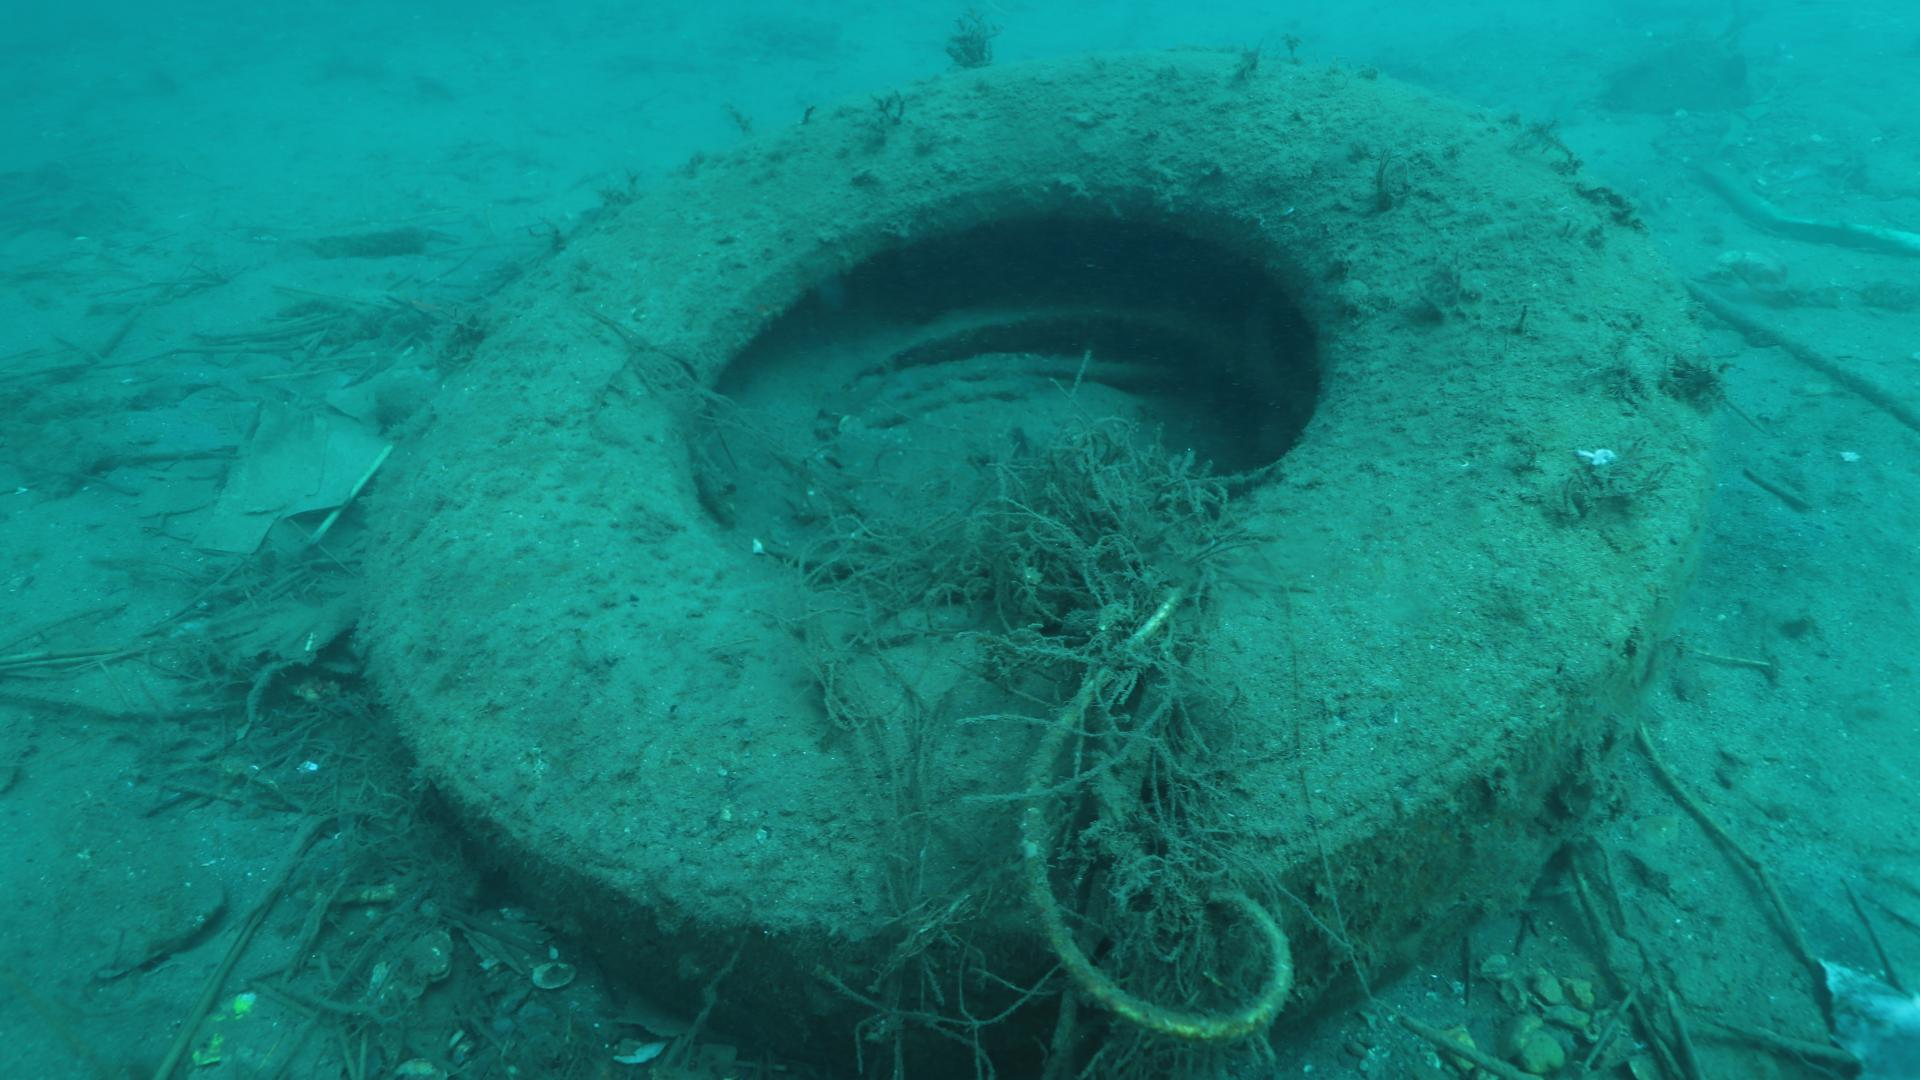tire: (361, 51, 1709, 1080)
